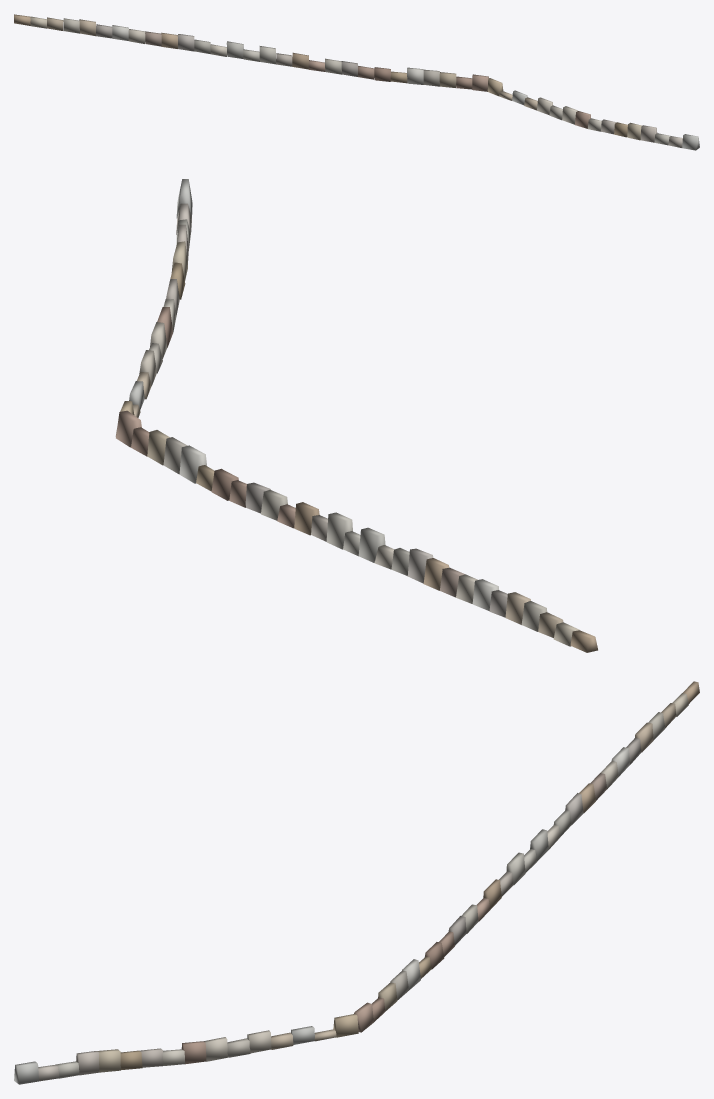
The model's file is farm_-23_-31_far.glb.
The picture shows the model from 3 angles, top to bottom: view 1: azimuth 30°, elevation 25°; view 2: azimuth 150°, elevation 25°; view 3: azimuth 270°, elevation 25°; orthographic projection. The views are drawn at different scales.
Visible parts, largest first — view 1: geometry_0; view 2: geometry_0; view 3: geometry_0.
Boxes of the visible parts, box(x1,y1,x2,y2) form: geometry_0: box(14, 14, 699, 150); geometry_0: box(115, 179, 597, 652); geometry_0: box(14, 681, 699, 1084).
Size of the model in its own units: 50.11 by 8.25 by 46.91.
